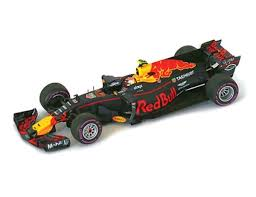FormulaOneCar: (10, 36, 243, 157)
